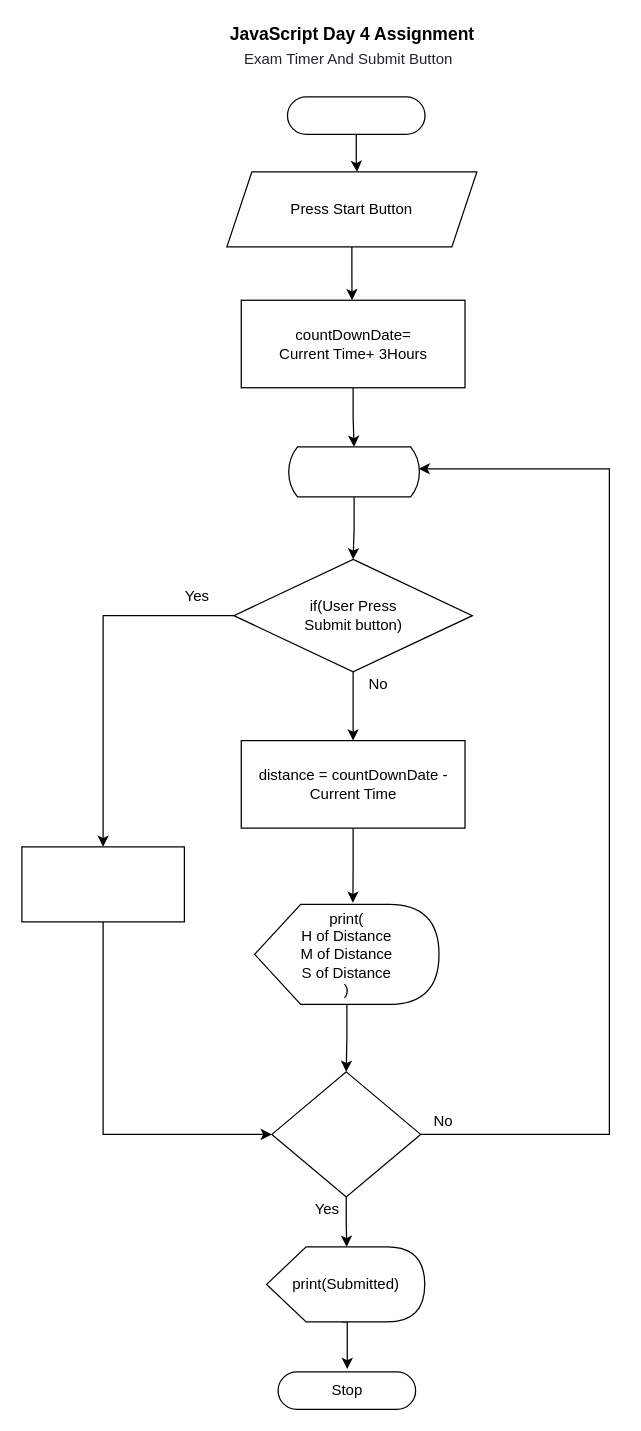
The diagram is 641 pixels wide and 1431 high, and some of its shapes have lost their labels. The shapes that lost their labels are listed below. From the top down, each one's box as (x1, y1, x2, y2) in pixels, then its label:
(286, 96, 425, 134): Start
(286, 446, 421, 497): Loop (Every One Sec)
(21, 846, 184, 922): distance==0
(271, 1071, 421, 1197): if(distance)<0
